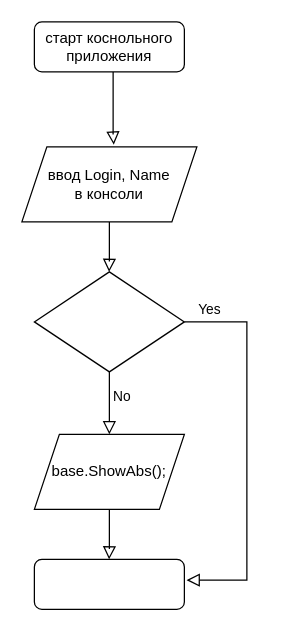
This 281x631 diagram has some shape labels left out. Each missing label, with the centre of its shape:
IsPremium==true: point 108,321
регистрация завершена: point 108,583
